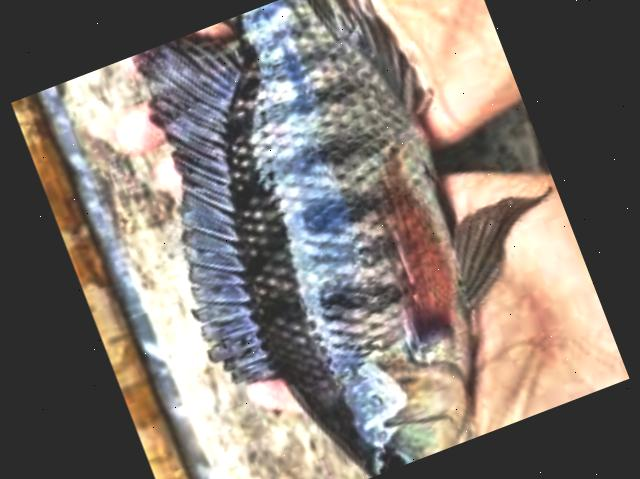Healthy Fish: (122, 0, 537, 476)
